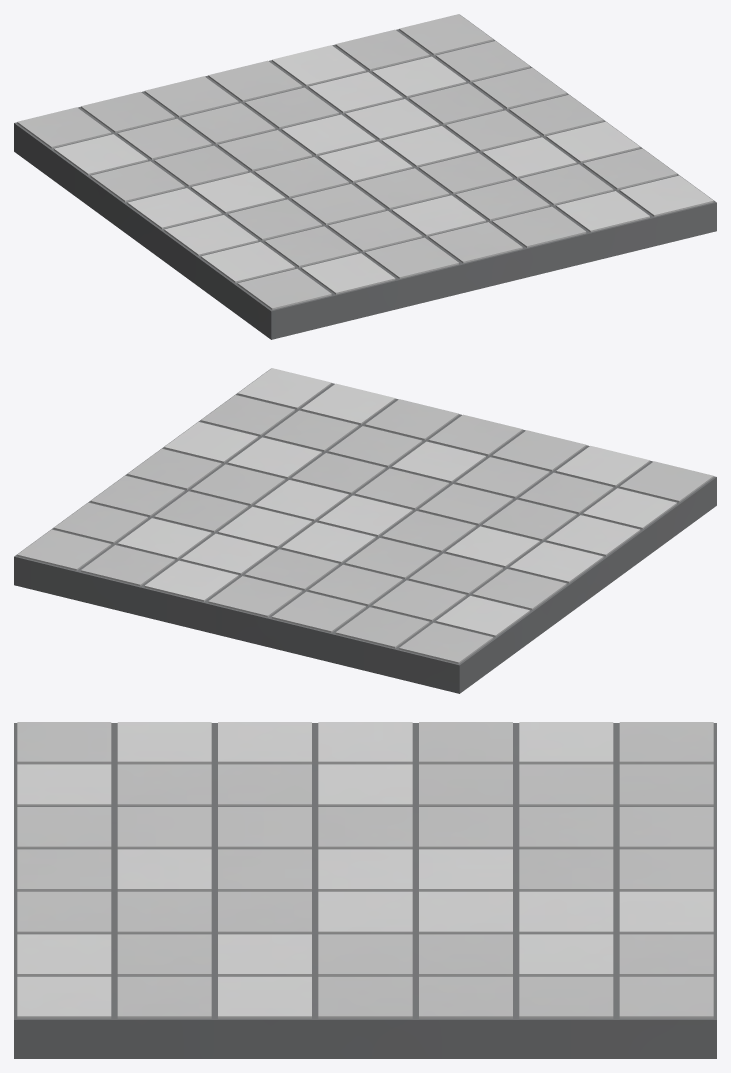
Rendered from tile_floor_1.dae.
3 views of the same model, one above another, from view 1: azimuth 30°, elevation 25°; view 2: azimuth 150°, elevation 25°; view 3: azimuth 270°, elevation 25° (orthographic). The views are drawn at different scales.
Visible parts, largest first — view 1: tile_floor_1; view 2: tile_floor_1; view 3: tile_floor_1.
Boxes of the visible parts, x1,y1,x2,y2 form: tile_floor_1: (14,14,716,339); tile_floor_1: (14,368,716,693); tile_floor_1: (14,722,716,1058).
Bounding box in the file's own units: 2 × 2 × 0.1294.
